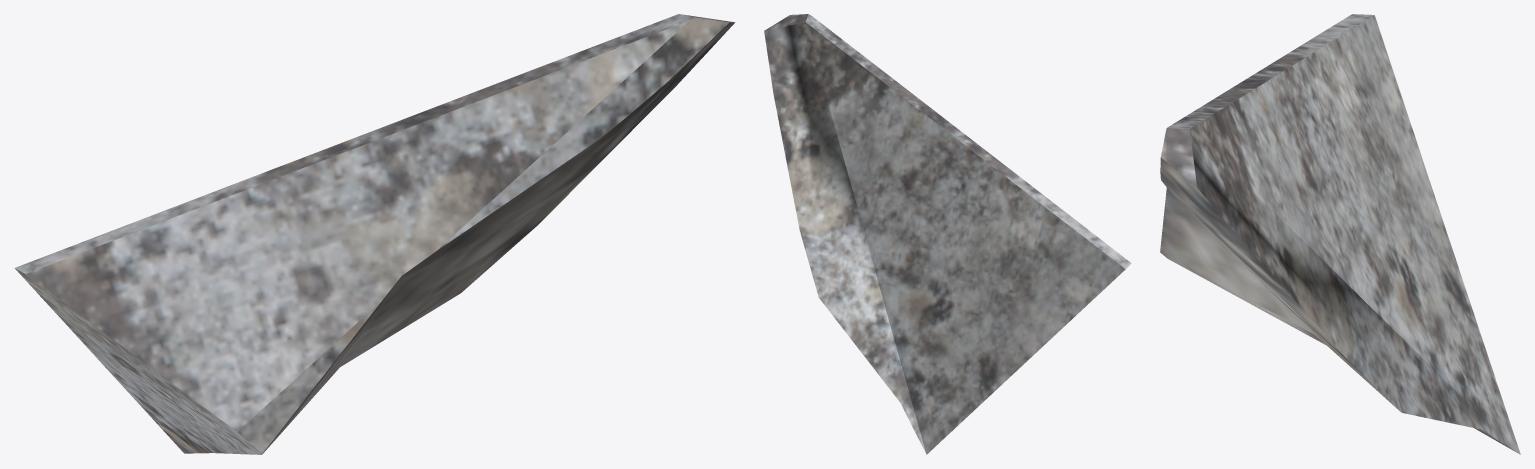
The model's file is Asteroid_Large_001_02_001_03_004.fbx.
The picture shows the model from 3 angles, left to right: view 1: azimuth 30°, elevation 25°; view 2: azimuth 150°, elevation 25°; view 3: azimuth 270°, elevation 25°; orthographic projection. The views are drawn at different scales.
Visible parts, largest first — view 1: Asteroid_Large_001_02_001_03_004; view 2: Asteroid_Large_001_02_001_03_004; view 3: Asteroid_Large_001_02_001_03_004.
Part boxes in pixels (left/top/right/bottom): Asteroid_Large_001_02_001_03_004: left=14, top=14, right=734, bottom=454; Asteroid_Large_001_02_001_03_004: left=764, top=14, right=1131, bottom=454; Asteroid_Large_001_02_001_03_004: left=1160, top=14, right=1520, bottom=454.
Size of the model in its own units: 8.41 by 5.95 by 3.83.
